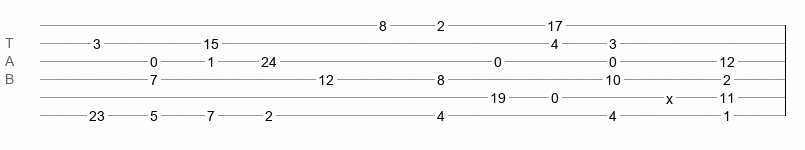0: (150, 54, 158, 64), (494, 54, 502, 64), (551, 90, 559, 100), (609, 54, 617, 64)
1: (207, 54, 215, 64), (723, 108, 731, 118)
10: (605, 72, 621, 82)
11: (719, 90, 735, 100)
12: (318, 72, 334, 82), (719, 54, 735, 64)
15: (203, 36, 219, 46)
17: (547, 18, 563, 28)
19: (490, 90, 506, 100)
2: (265, 108, 273, 118), (437, 18, 445, 28), (723, 72, 731, 82)
23: (89, 108, 105, 118)
24: (261, 54, 277, 64)
3: (93, 36, 101, 46), (609, 36, 617, 46)
4: (437, 108, 445, 118), (551, 36, 559, 46), (609, 108, 617, 118)
5: (150, 108, 158, 118)
7: (150, 72, 158, 82), (207, 108, 215, 118)
8: (379, 18, 387, 28), (437, 72, 445, 82)
x: (666, 91, 673, 99)
